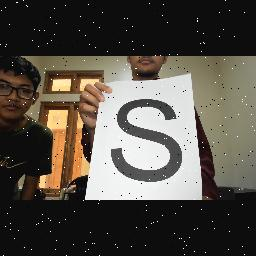s: (104, 96, 188, 188)
